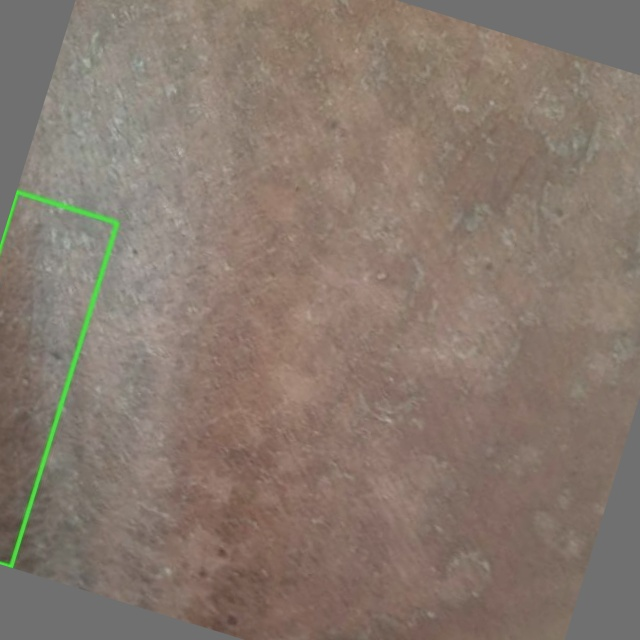Seborrheic Dermatitis: (0, 191, 117, 566)
